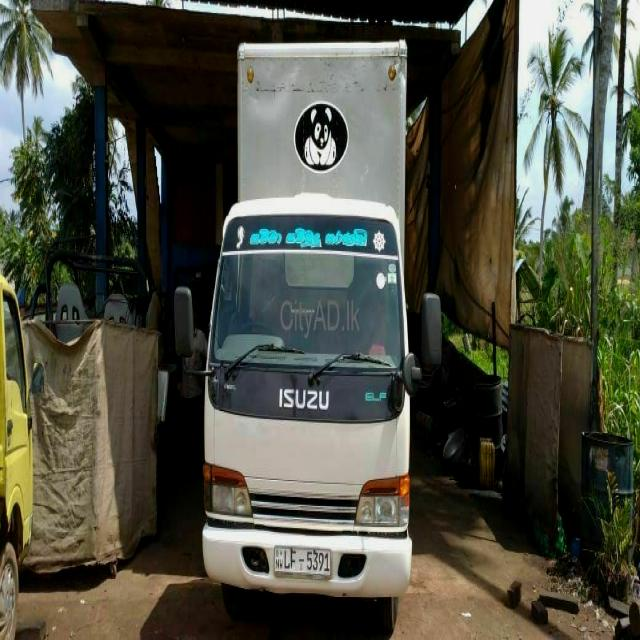Truck: (170, 36, 448, 640), (0, 253, 47, 640)
